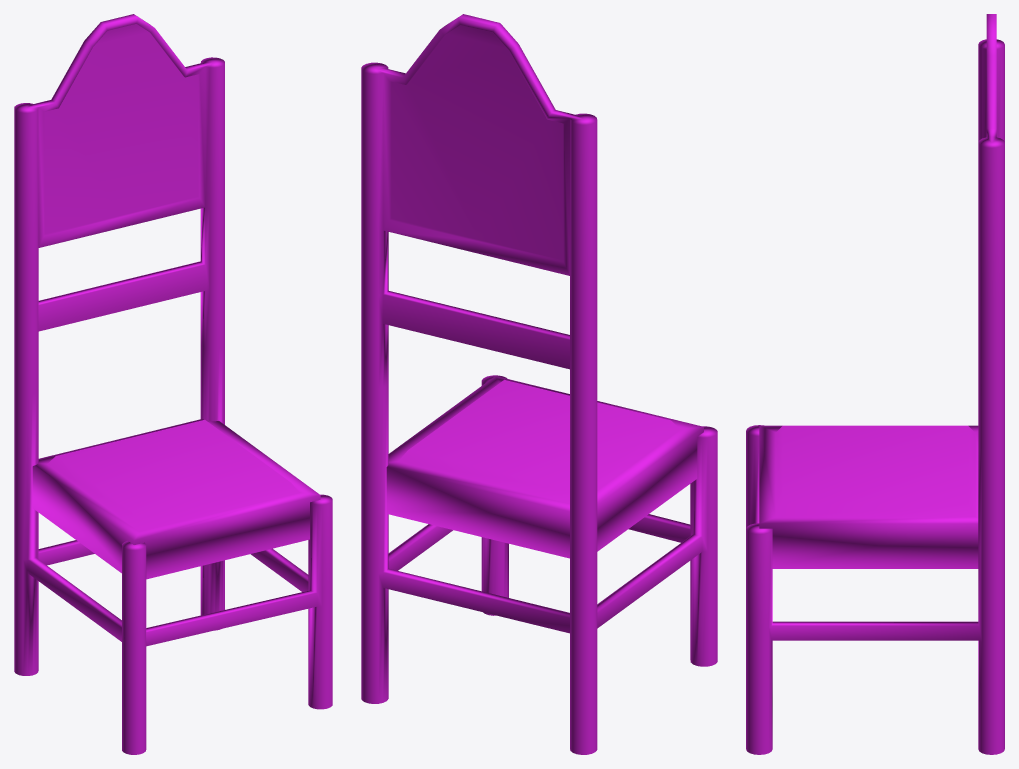
File: CaptainQuarters_Chair.fbx
3 renders of one model, left to right at view 1: azimuth 30°, elevation 25°; view 2: azimuth 150°, elevation 25°; view 3: azimuth 270°, elevation 25°, orthographic. The views are drawn at different scales.
Visible parts, largest first — view 1: Captain_Chair; view 2: Captain_Chair; view 3: Captain_Chair.
Part boxes in pixels (x1,y1,x2,y2): Captain_Chair: (14, 14, 332, 754); Captain_Chair: (361, 14, 717, 754); Captain_Chair: (746, 14, 1004, 754).
Bounding box in the file's own units: 0.5505 × 1.59 × 0.5505.
